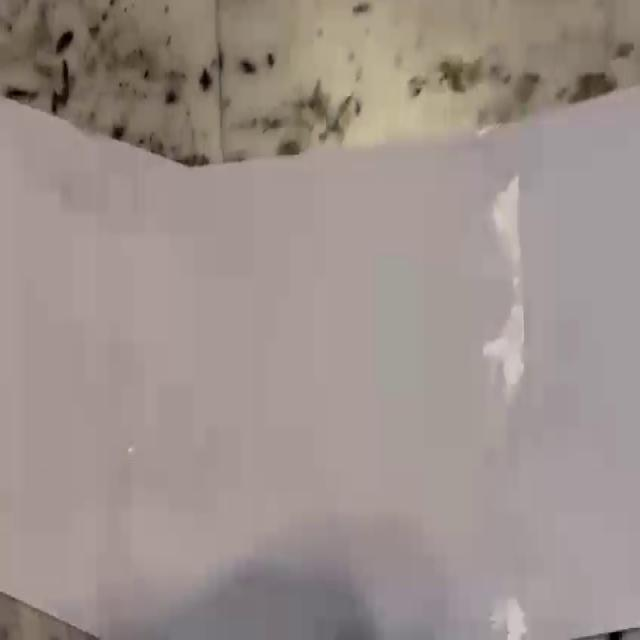road: (0, 88, 640, 639)
